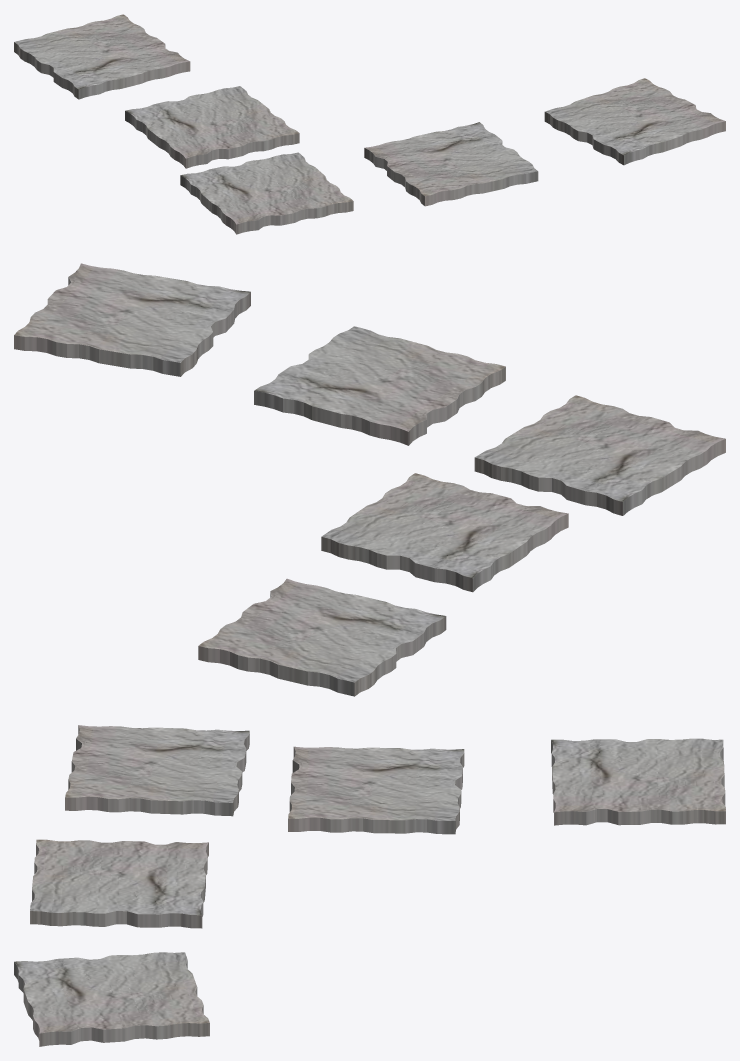
Rendered from pathNE.glb.
3 views of the same model, one above another, from view 1: azimuth 30°, elevation 25°; view 2: azimuth 150°, elevation 25°; view 3: azimuth 270°, elevation 25° (orthographic). The views are drawn at different scales.
Parts seen in each view (by area): view 1: Plane.003, Plane.004, Plane.007, Plane.005, Plane.006; view 2: Plane.004, Plane.007, Plane.005, Plane.003, Plane.006; view 3: Plane.003, Plane.005, Plane.004, Plane.007, Plane.006.
Part boxes in pixels (bbox=[...]): Plane.003: bbox=[544, 78, 725, 165]; Plane.004: bbox=[364, 122, 538, 206]; Plane.007: bbox=[14, 14, 190, 99]; Plane.005: bbox=[180, 152, 353, 234]; Plane.006: bbox=[125, 86, 299, 168]; Plane.004: bbox=[254, 326, 505, 445]; Plane.007: bbox=[198, 578, 446, 696]; Plane.005: bbox=[474, 395, 725, 515]; Plane.003: bbox=[14, 263, 250, 376]; Plane.006: bbox=[321, 473, 568, 592]; Plane.003: bbox=[14, 952, 209, 1046]; Plane.005: bbox=[65, 725, 249, 816]; Plane.004: bbox=[30, 839, 208, 928]; Plane.007: bbox=[551, 738, 725, 825]; Plane.006: bbox=[288, 746, 464, 834].
Size of what is drawn, in the model's own units: 0.4959 by 0.0123 by 0.4867.
Materials: 1 (1 with a texture image).
